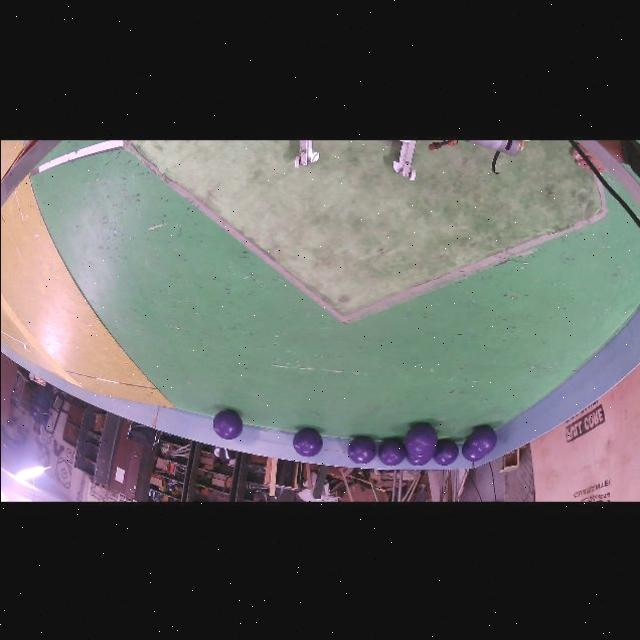P: (404, 421, 437, 455), (292, 426, 323, 455), (467, 424, 496, 454), (212, 409, 242, 438), (346, 435, 375, 463), (377, 438, 406, 465), (432, 439, 457, 464), (461, 438, 484, 460), (404, 452, 429, 465), (407, 449, 434, 460)
